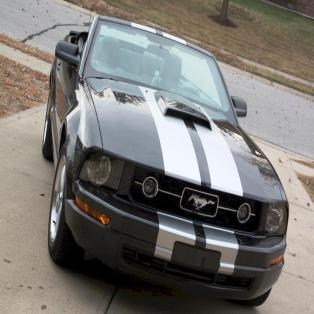Auto: (41, 11, 291, 308)
